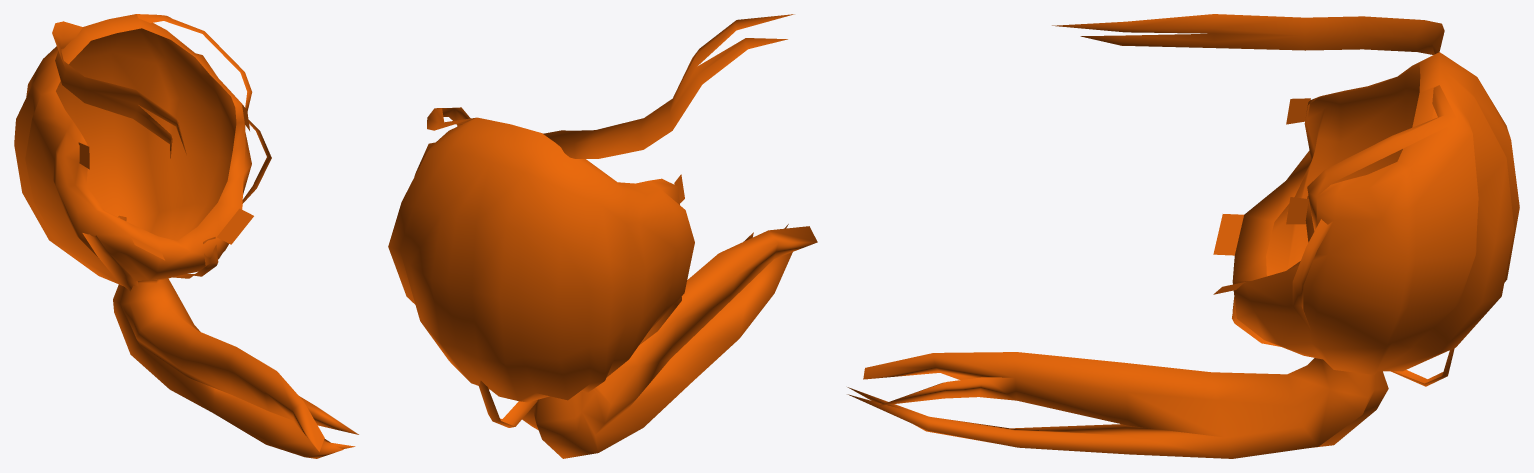
Rendered from Female_Hair_1.fbx.
The picture shows the model from 3 angles, left to right: view 1: azimuth 30°, elevation 25°; view 2: azimuth 150°, elevation 25°; view 3: azimuth 270°, elevation 25°; orthographic projection. The views are drawn at different scales.
Visible parts, largest first — view 1: Hair; view 2: Hair; view 3: Hair.
Part boxes in pixels (x1,y1,x2,y2): Hair: (14, 14, 358, 458); Hair: (388, 14, 817, 458); Hair: (847, 14, 1519, 458).
Bounding box in the file's own units: 2182 × 3249 × 4912.
